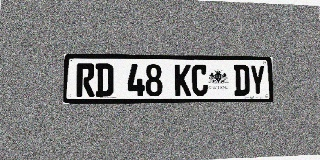4: (127, 64, 145, 96)
8: (145, 64, 162, 96)
C: (192, 64, 208, 96)
D: (95, 63, 113, 97), (234, 65, 250, 96)
K: (175, 64, 191, 96)
R: (76, 63, 95, 97)
Y: (250, 65, 265, 95)
